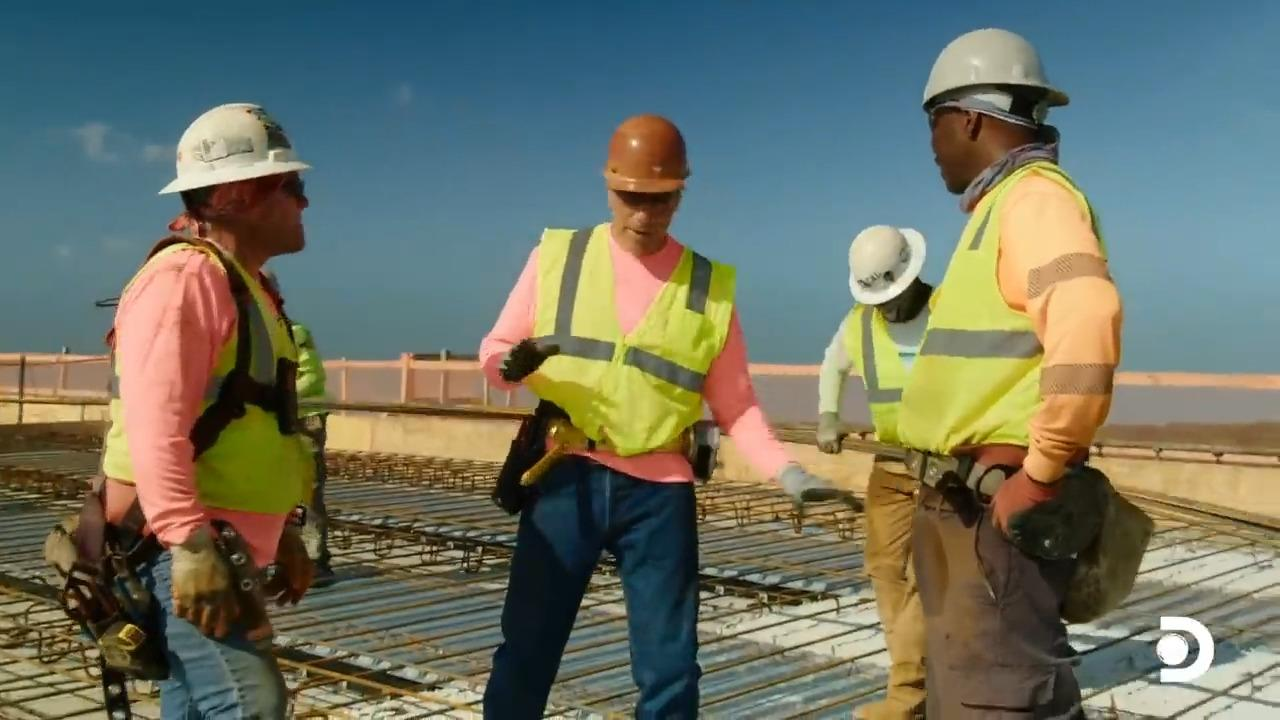Gloves: (171, 541, 243, 637), (995, 471, 1060, 548), (265, 528, 313, 606), (810, 407, 843, 451)
Helmet: (157, 101, 312, 195), (921, 26, 1069, 124), (603, 113, 690, 194), (847, 224, 926, 305)
Person: (477, 112, 838, 719), (895, 26, 1123, 719), (77, 101, 326, 718), (814, 224, 937, 719)
Safety Boot: (857, 685, 927, 720)
Safety Vest: (134, 261, 307, 510), (939, 210, 1091, 466), (537, 241, 695, 446), (849, 309, 918, 412)
